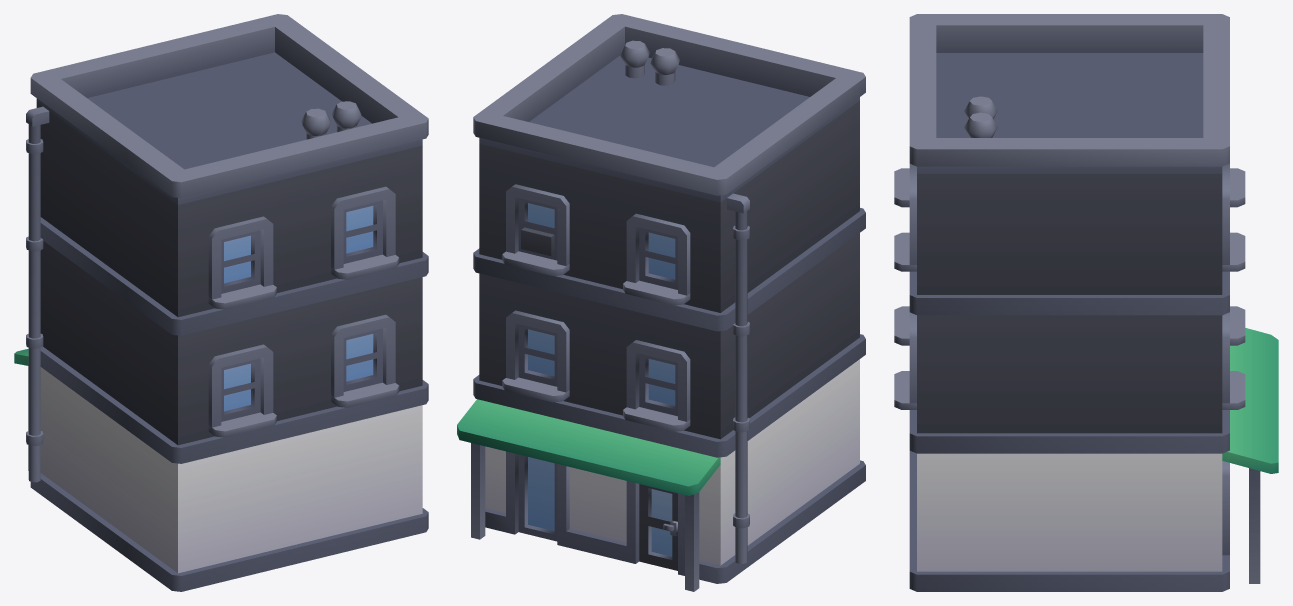
File: building-h.glb
3 renders of one model, left to right at view 1: azimuth 30°, elevation 25°; view 2: azimuth 150°, elevation 25°; view 3: azimuth 270°, elevation 25°, orthographic. The views are drawn at different scales.
Visible parts, largest first — view 1: building-h; view 2: building-h; view 3: building-h.
Boxes of the visible parts, x1,y1,x2,y2 form: building-h: (14, 14, 428, 591); building-h: (457, 14, 865, 591); building-h: (894, 14, 1278, 591).
Size of the model in its own units: 0.8835 by 1.29 by 1.01.
Materials: 1 (1 with a texture image).
